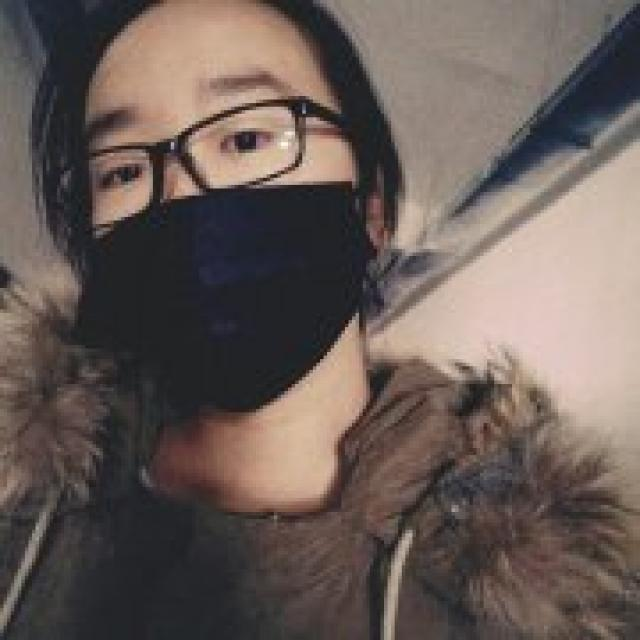mask: (84, 11, 350, 402)
